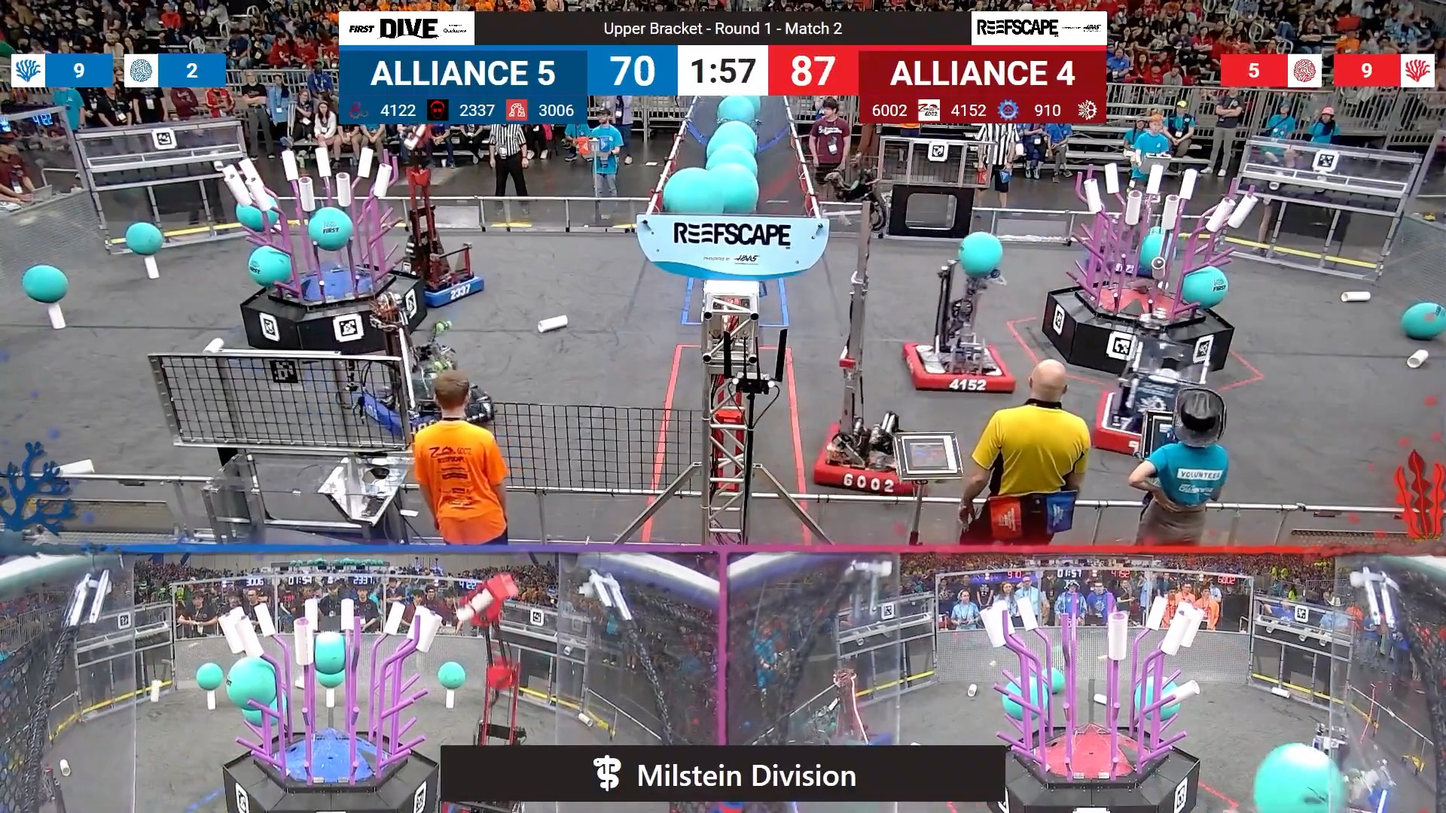bumpers: (1084, 383, 1210, 460), (804, 430, 930, 502), (895, 335, 1021, 401), (354, 383, 490, 439), (401, 267, 492, 311)
